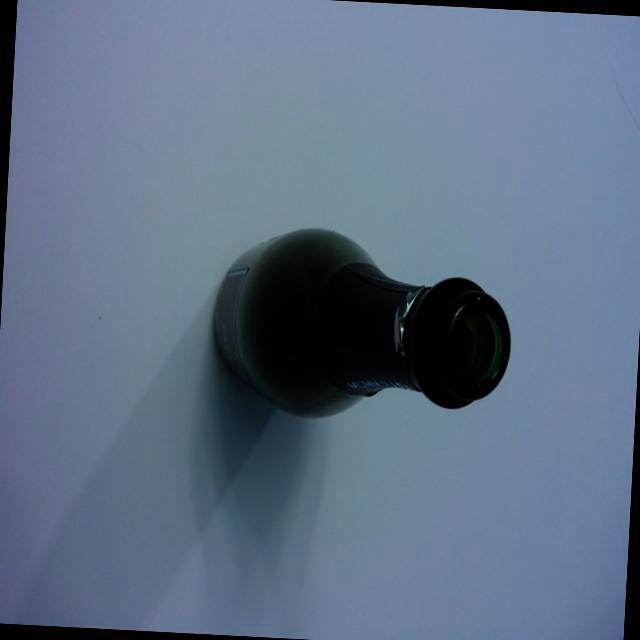glass: (190, 208, 531, 450)
